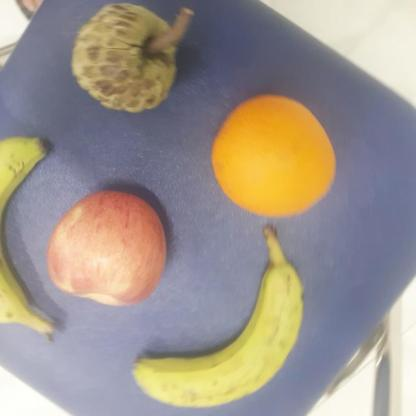annona: (70, 3, 178, 114)
apple: (44, 184, 172, 306)
banana: (132, 263, 304, 410), (0, 132, 52, 326)
orange: (212, 95, 338, 219)
